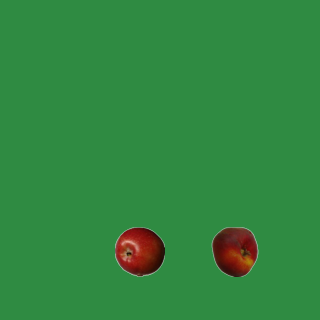Apple Braeburn: (114, 226, 164, 276)
Nectarine Flat: (209, 226, 259, 276)
